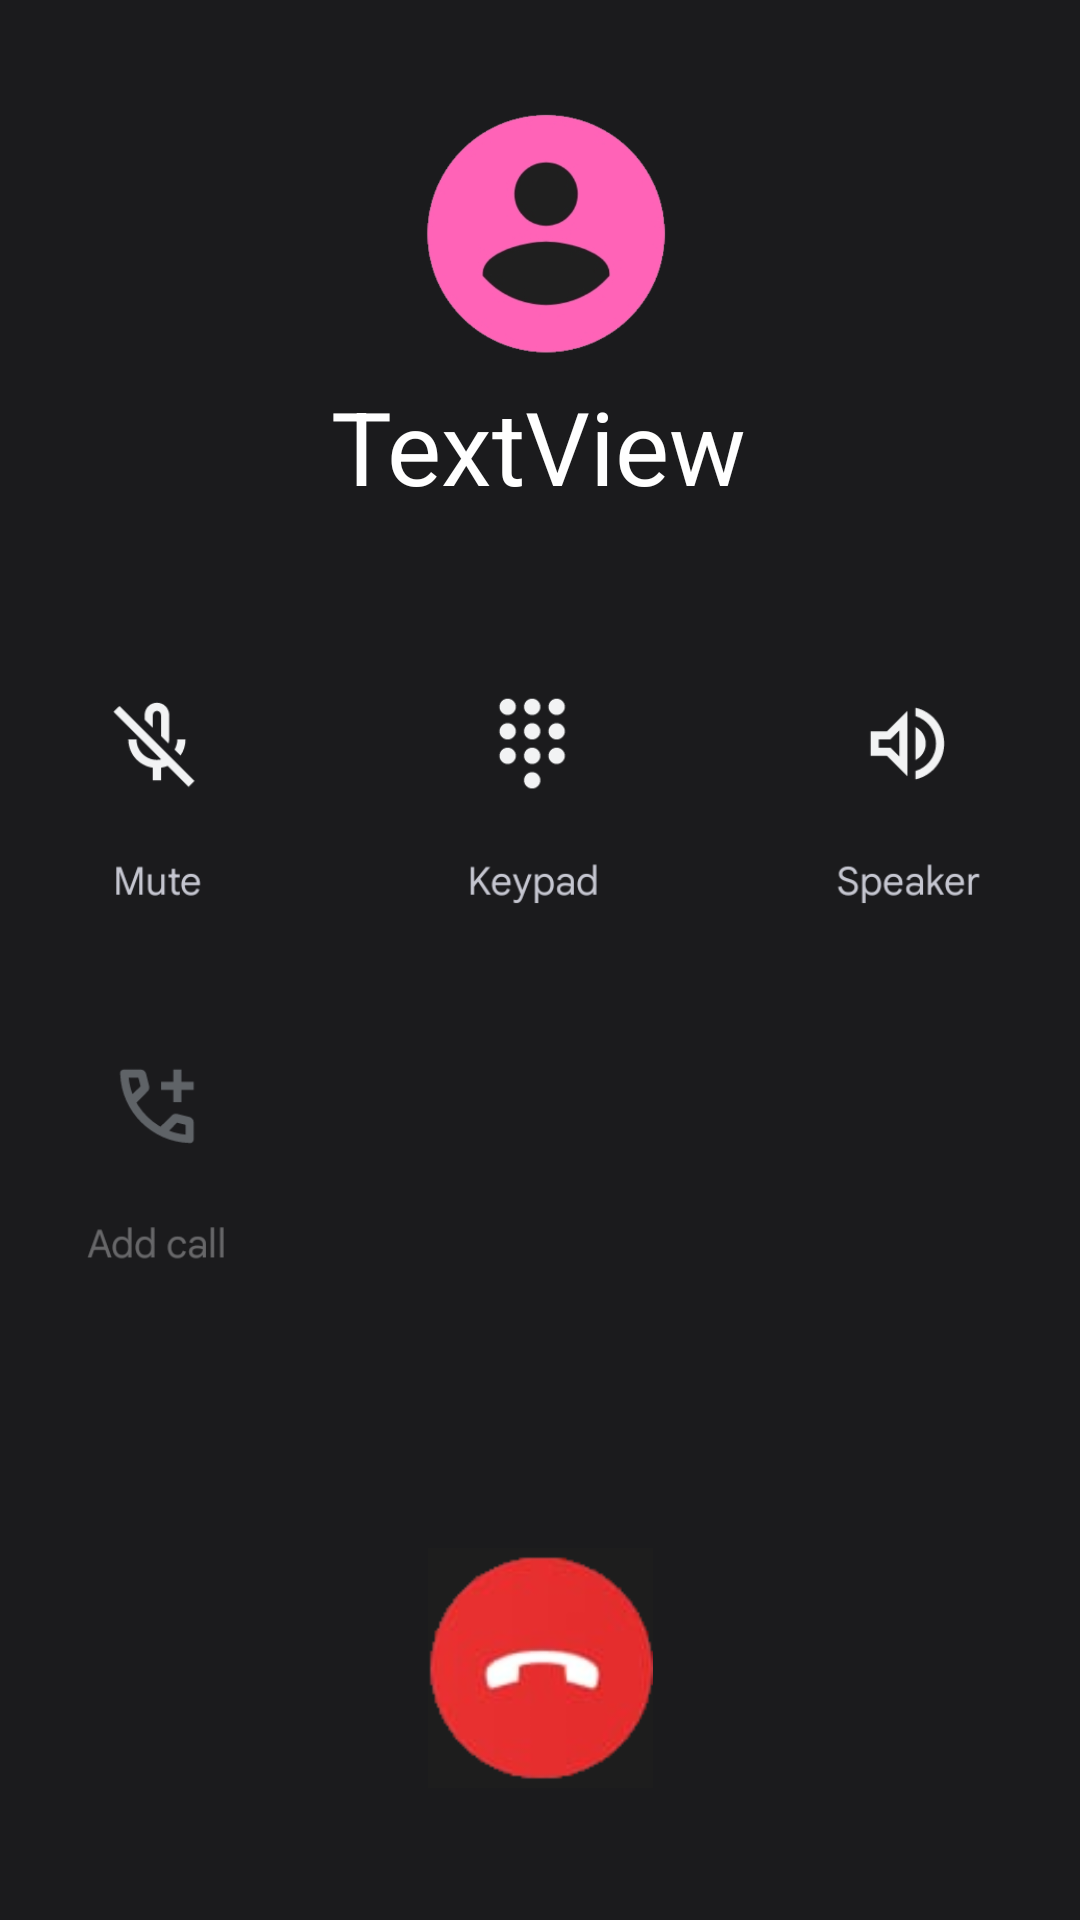

Named icons in this screenshot (1080×1920) and their centers, (x,y):
redb: (541,1668)
